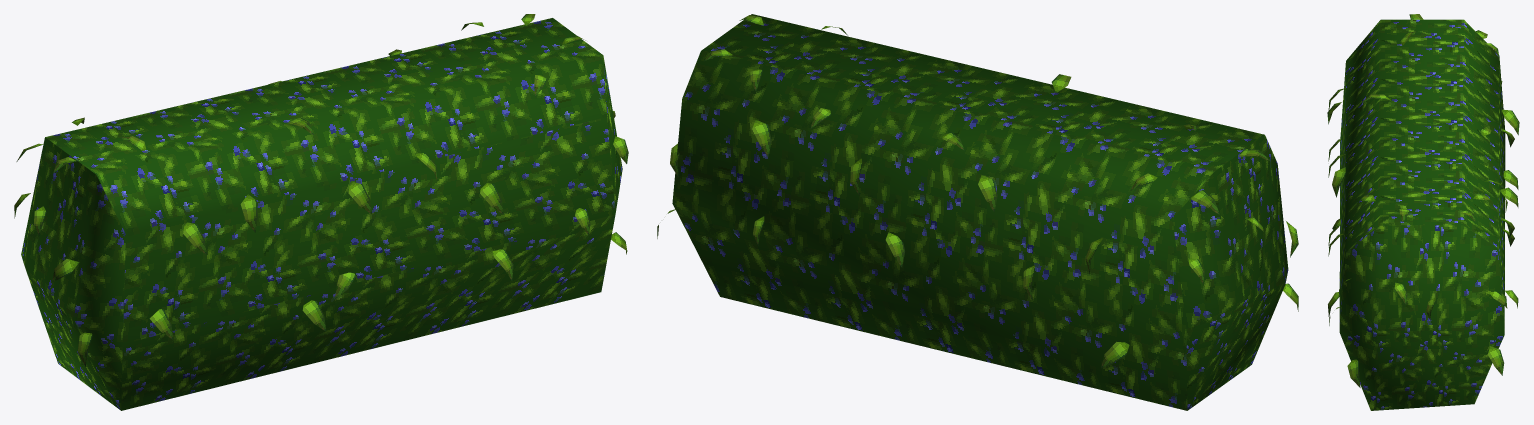
Rendered from INST_HTOWN_BERRYBUSHG.fbx.
3 renders of one model, left to right at view 1: azimuth 30°, elevation 25°; view 2: azimuth 150°, elevation 25°; view 3: azimuth 270°, elevation 25°, orthographic. The views are drawn at different scales.
Visible parts, largest first — view 1: INST_HTOWN_BERRYBUSHG; view 2: INST_HTOWN_BERRYBUSHG; view 3: INST_HTOWN_BERRYBUSHG.
Part boxes in pixels (box(x1,y1,x2,y2)): INST_HTOWN_BERRYBUSHG: box(14, 14, 628, 410); INST_HTOWN_BERRYBUSHG: box(657, 14, 1298, 410); INST_HTOWN_BERRYBUSHG: box(1327, 14, 1519, 410).
Bounding box in the file's own units: 35089 × 14566 × 12552.
Materials: 3 (3 with a texture image).
